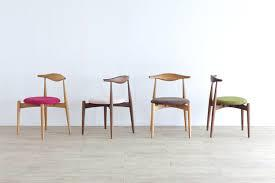chair: (10, 58, 258, 150)
